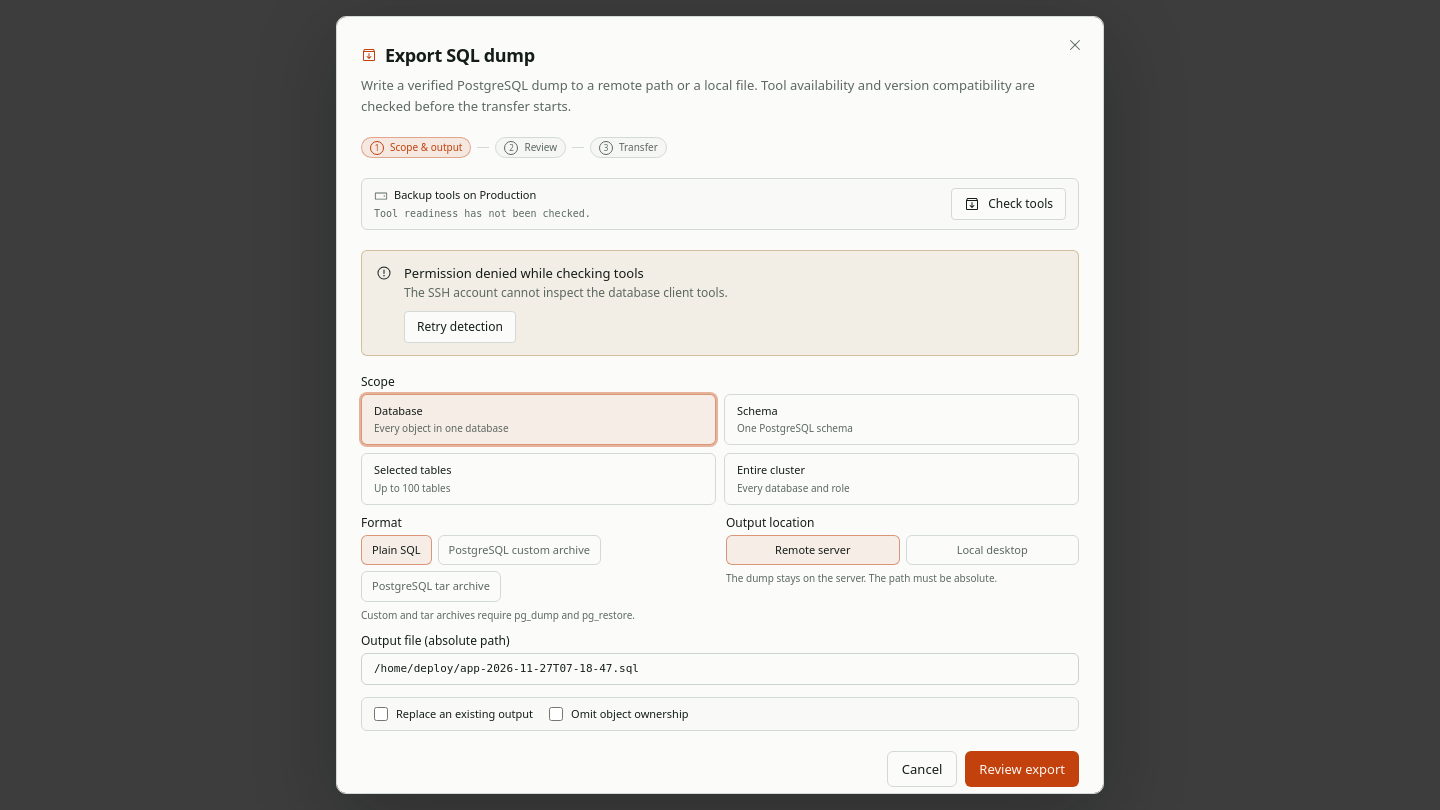
Test: DatabaseDumpTransferDialog › shows a permission-denied state for tool detection and retries it
Check: the text "Permission denied while checking tools" is shown, box [404, 264, 644, 282]
Check: the text "The SSH account cannot inspect the database client tools." is shown, box [404, 284, 728, 301]
Click the button "Retry detection" at (460, 327), box [404, 311, 516, 343]
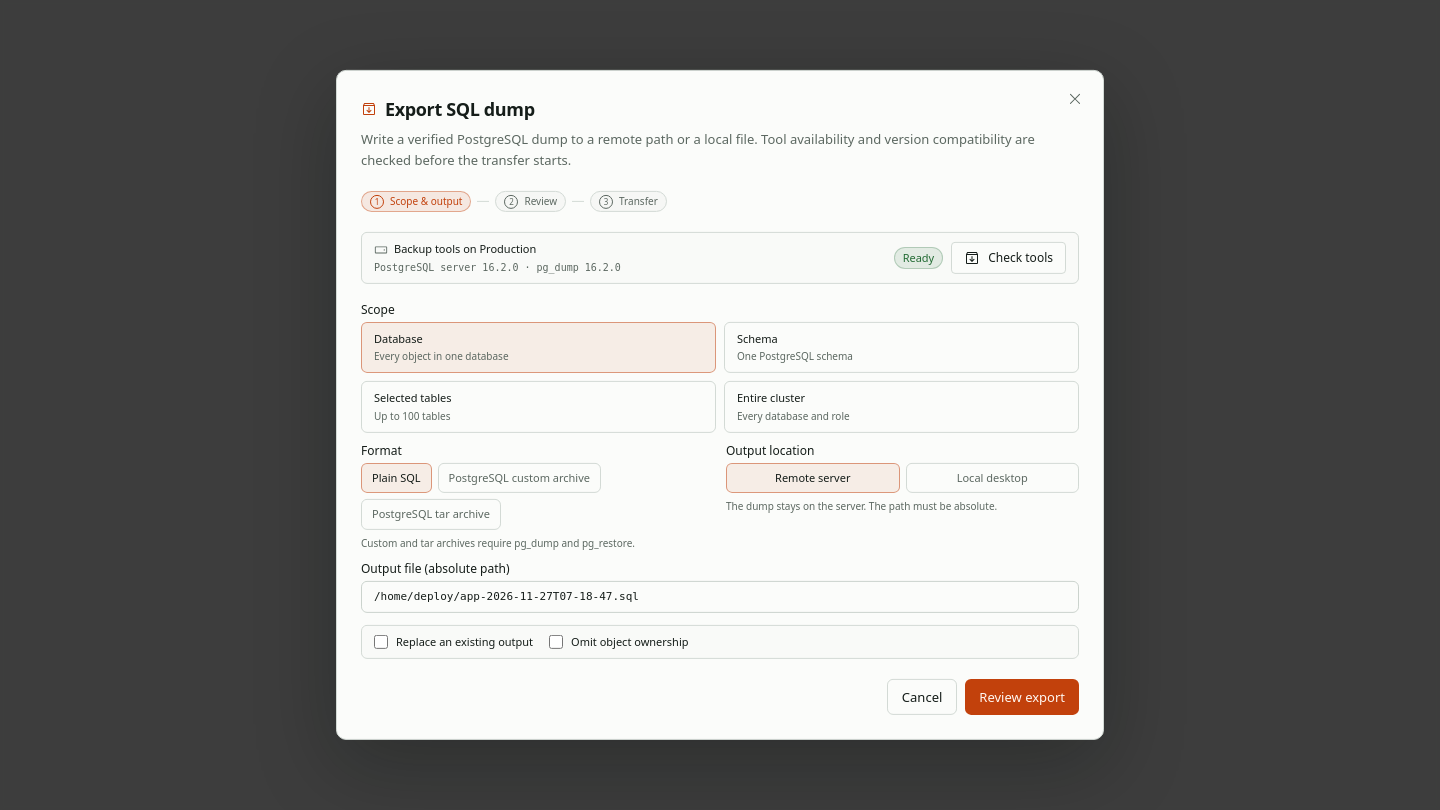
Check: the text "Ready" is shown, box [894, 247, 943, 269]
